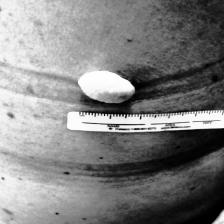Benign Marking or Mole: (77, 72, 137, 105)
